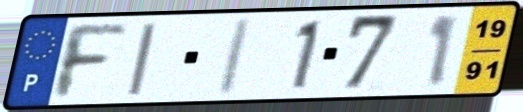1: (424, 12, 460, 90), (288, 18, 325, 92)
7: (342, 12, 402, 95)
F: (52, 21, 130, 101)
I: (212, 15, 256, 98), (124, 20, 160, 98)
